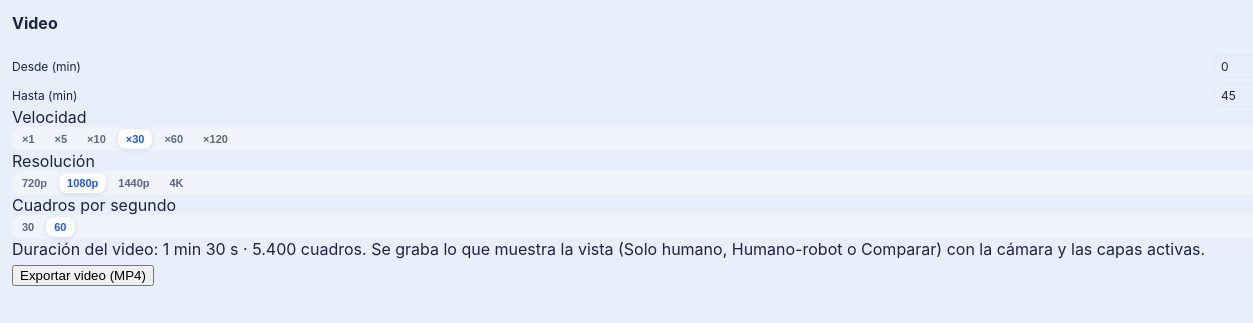
Test: VideoPanel › bloquea videos que no caben en memoria y lo explica
This screenshot has width=1253, height=323.
Click the button "×1".
click(28, 138)  # box [14,128,42,148]
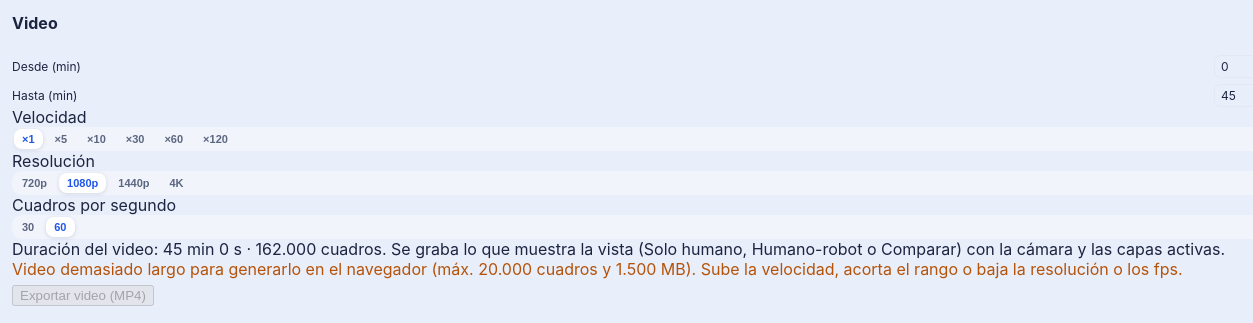
Now the text "Video demasiado largo" is shown, box [12,258,1182,278]
Now the button with test id "video-export" is disabled, box [12,284,154,306]
